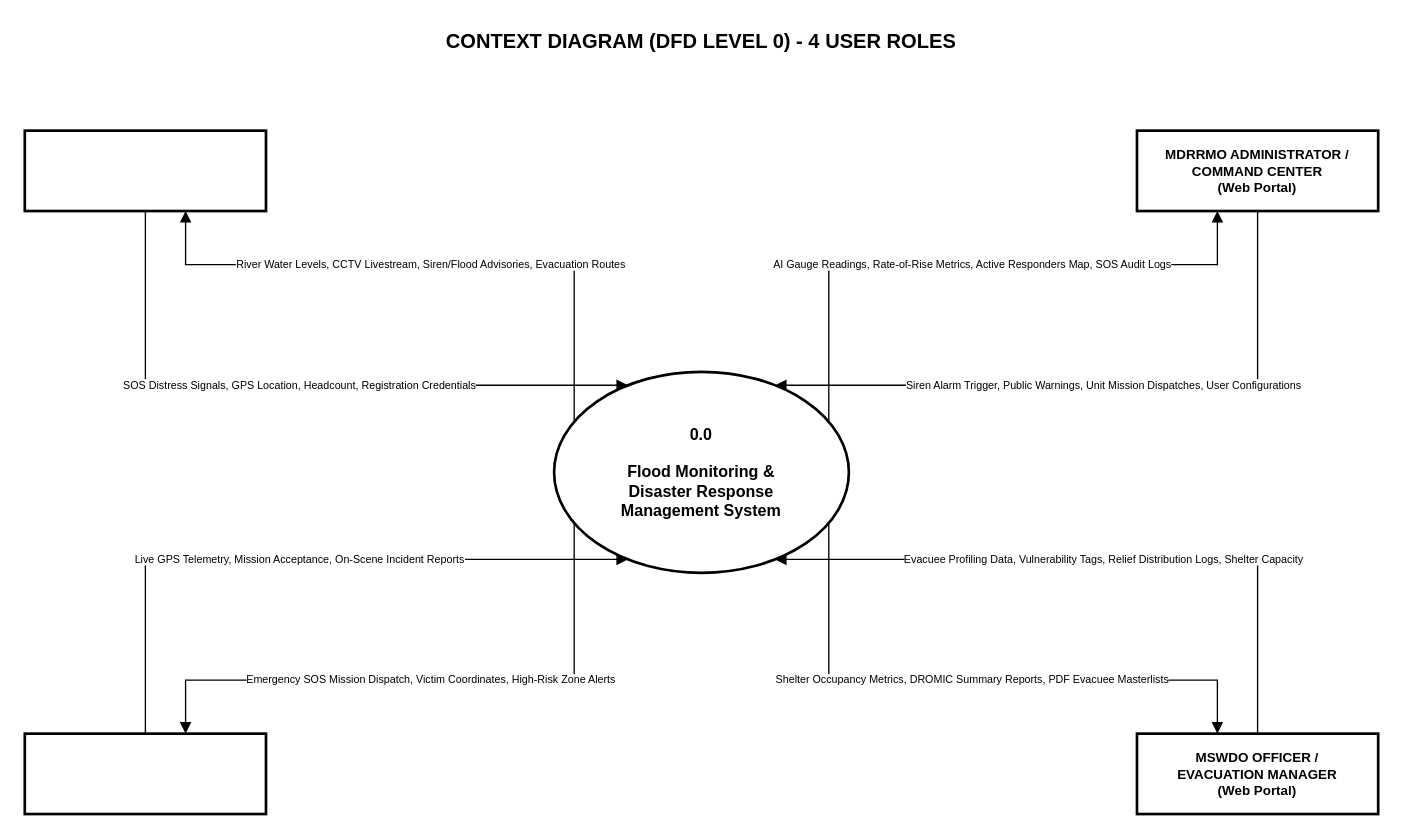
This 1402x838 diagram has some shape labels left out. Here are the shapes that lost their labels. From the top down, the centre of each, then its label:
At pixel 145 170: "COMMUNITY RESIDENT / CITIZEN (ResQConnect Mobile)".
At pixel 145 773: "EMERGENCY RESPONDER / RESCUE TEAM (ResQConnect Field Mode)".
